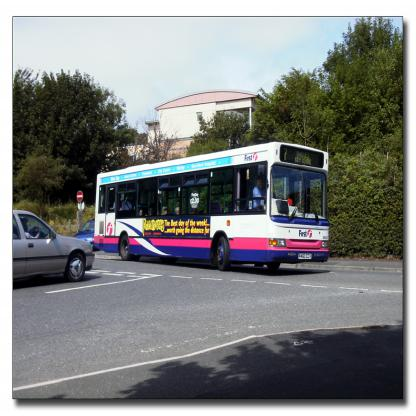Bus: (93, 142, 330, 270)
